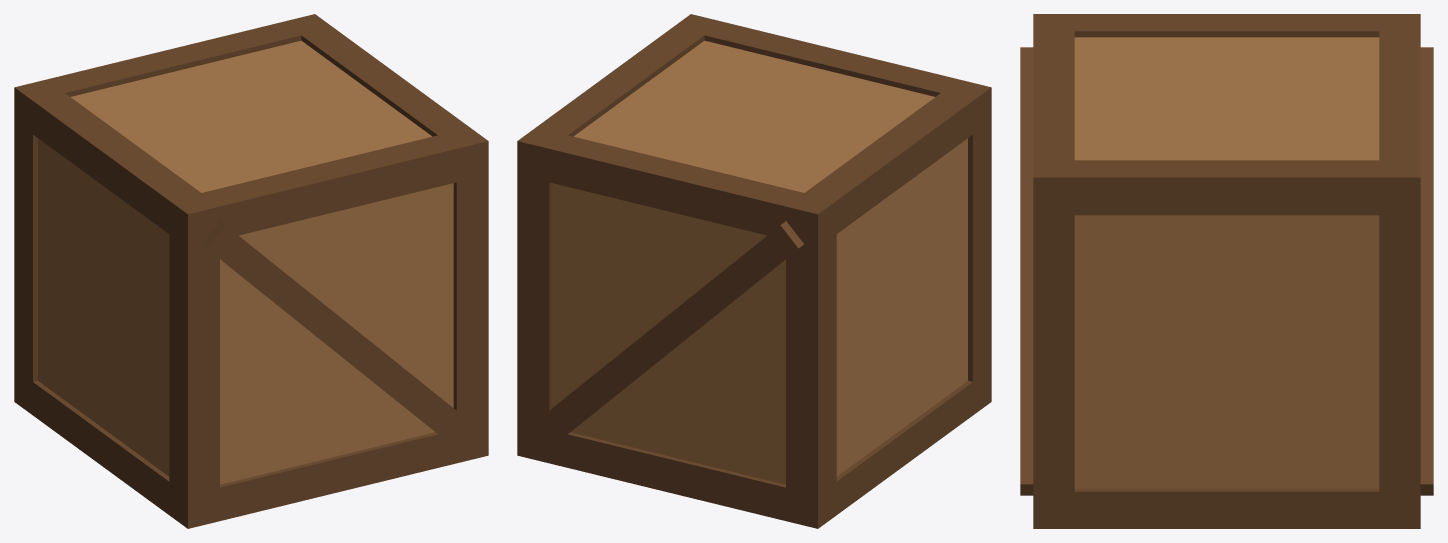
Rendered from Crate.fbx.
3 renders of one model, left to right at view 1: azimuth 30°, elevation 25°; view 2: azimuth 150°, elevation 25°; view 3: azimuth 270°, elevation 25°, orthographic. The views are drawn at different scales.
Visible parts, largest first — view 1: Crate; view 2: Crate; view 3: Crate.
Part boxes in pixels (x1,y1,x2,y2): Crate: (14, 14, 488, 528); Crate: (517, 14, 991, 528); Crate: (1020, 14, 1433, 528).
Bounding box in the file's own units: 3 × 3 × 3.2.
Materials: 1 (1 with a texture image).
